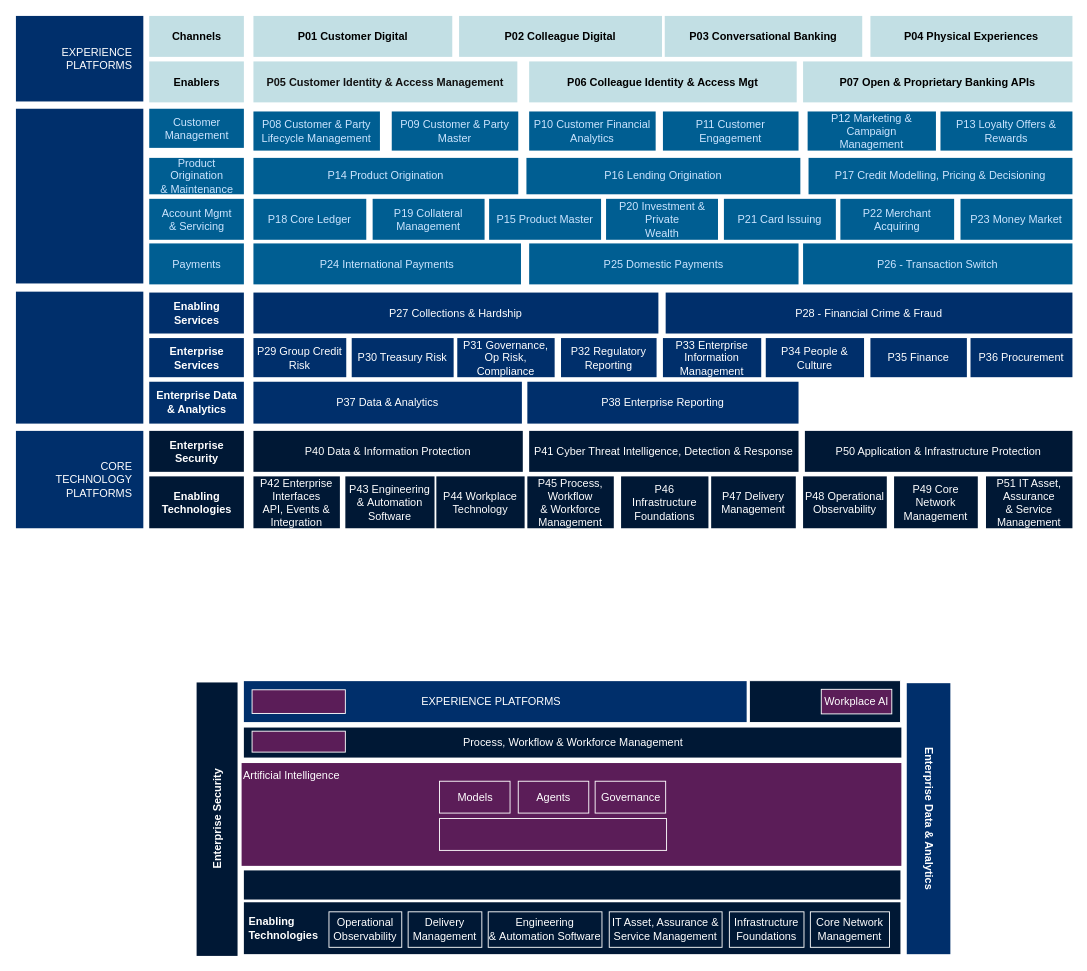
Image size: 1087x971. Some labels were removed from this diagram. Here are the shapes that lost their labels. From the top down, the box of each, then its label:
(15, 108, 143, 283): CUSTOMER SERVING PLATFORMS
(15, 291, 143, 423): BUSINESS ENABLEMENT PLATFORMS
(251, 689, 345, 713): Embedded AI
(748, 680, 900, 723): Workplace Technology
(251, 730, 345, 752): Low Code AI
(439, 818, 667, 850): Knowledge
(243, 870, 900, 899): Enterprise Interfaces API, Events & Integration
